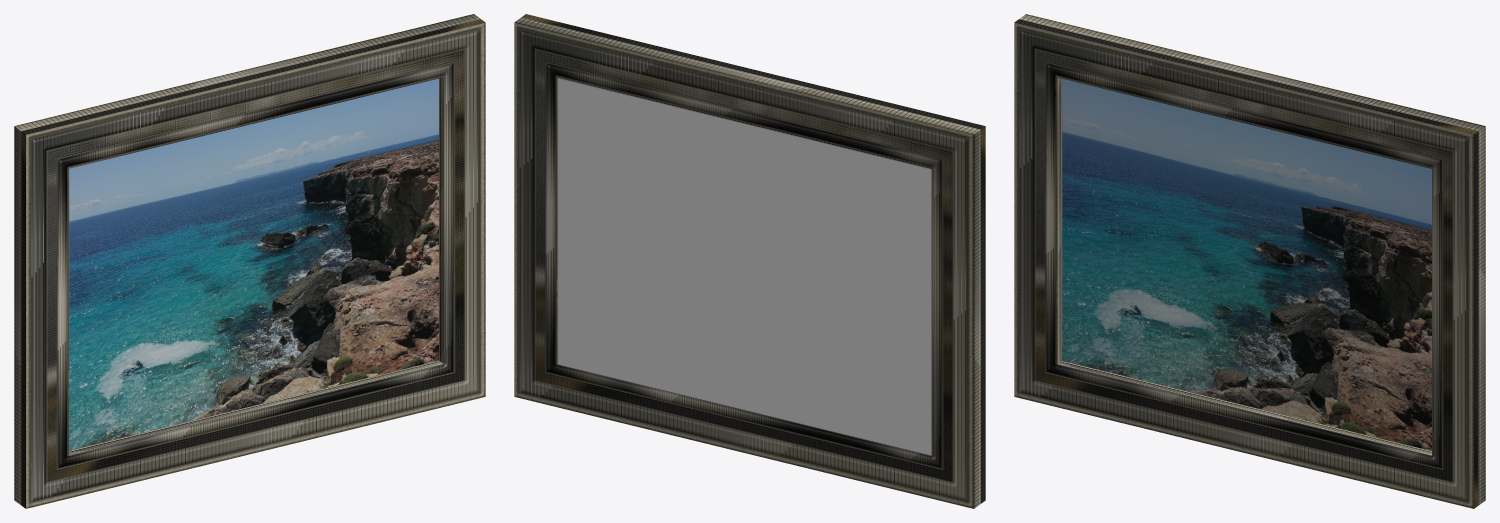
Rendered from Frame_018.FBX.
The picture shows the model from 3 angles, left to right: view 1: azimuth 30°, elevation 25°; view 2: azimuth 150°, elevation 25°; view 3: azimuth 330°, elevation 25°; orthographic projection.
Parts seen in each view (by area): view 1: Frame_018; view 2: Frame_018; view 3: Frame_018.
Boxes of the visible parts, box(x1,y1,x2,y2) form: Frame_018: box(14, 14, 485, 508); Frame_018: box(514, 14, 985, 508); Frame_018: box(1014, 14, 1485, 508).
Bounding box in the file's own units: 810 × 36 × 630.
